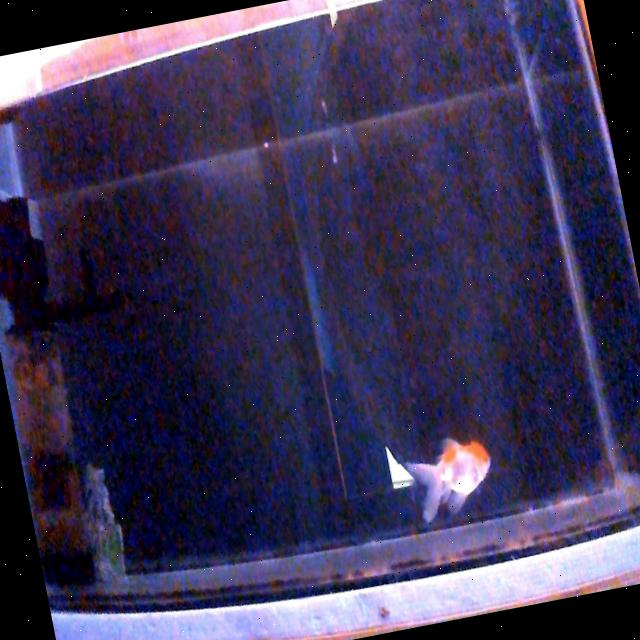fish: (404, 428, 501, 530)
